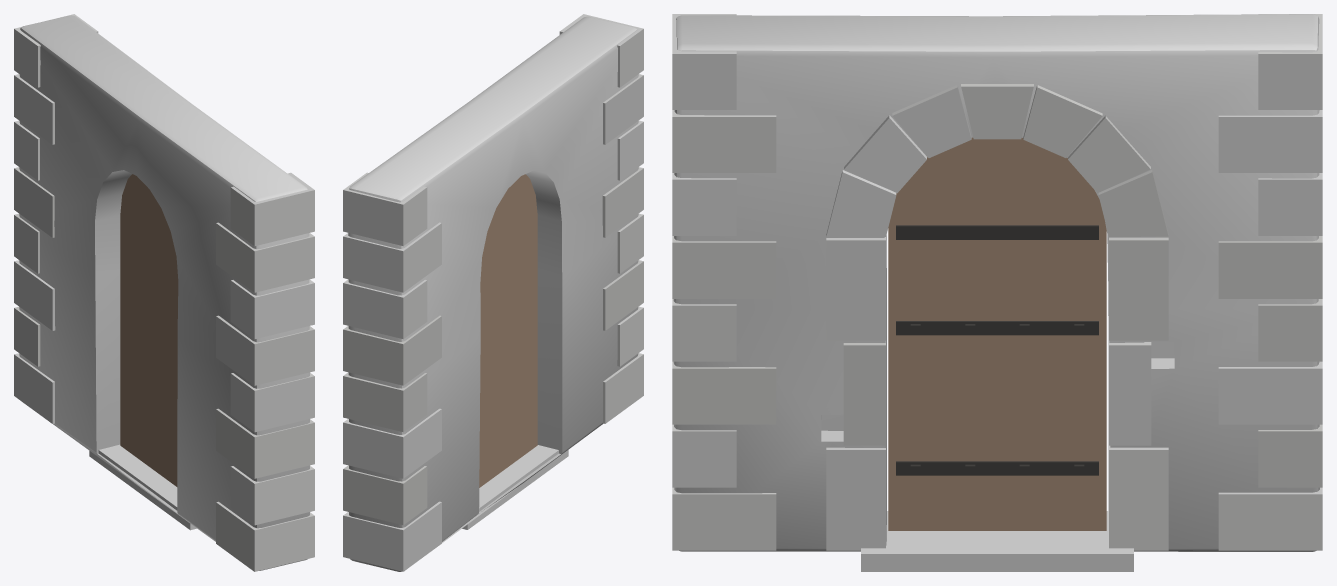
File: Kit_RealTower_W1F.fbx
3 views of the same model, side by side, from view 1: azimuth 30°, elevation 25°; view 2: azimuth 150°, elevation 25°; view 3: azimuth 270°, elevation 25° (orthographic). The views are drawn at different scales.
Visible parts, largest first — view 1: Kit_RealTower_W1F_LOD0; view 2: Kit_RealTower_W1F_LOD0; view 3: Kit_RealTower_W1F_LOD0.
Part boxes in pixels (x1=…): Kit_RealTower_W1F_LOD0: x1=14, y1=14, x2=314, y2=571; Kit_RealTower_W1F_LOD0: x1=343, y1=14, x2=643, y2=571; Kit_RealTower_W1F_LOD0: x1=672, y1=14, x2=1322, y2=571.
Size of what is drawn, in the model's own units: 0.445 by 2.3 by 2.62.
